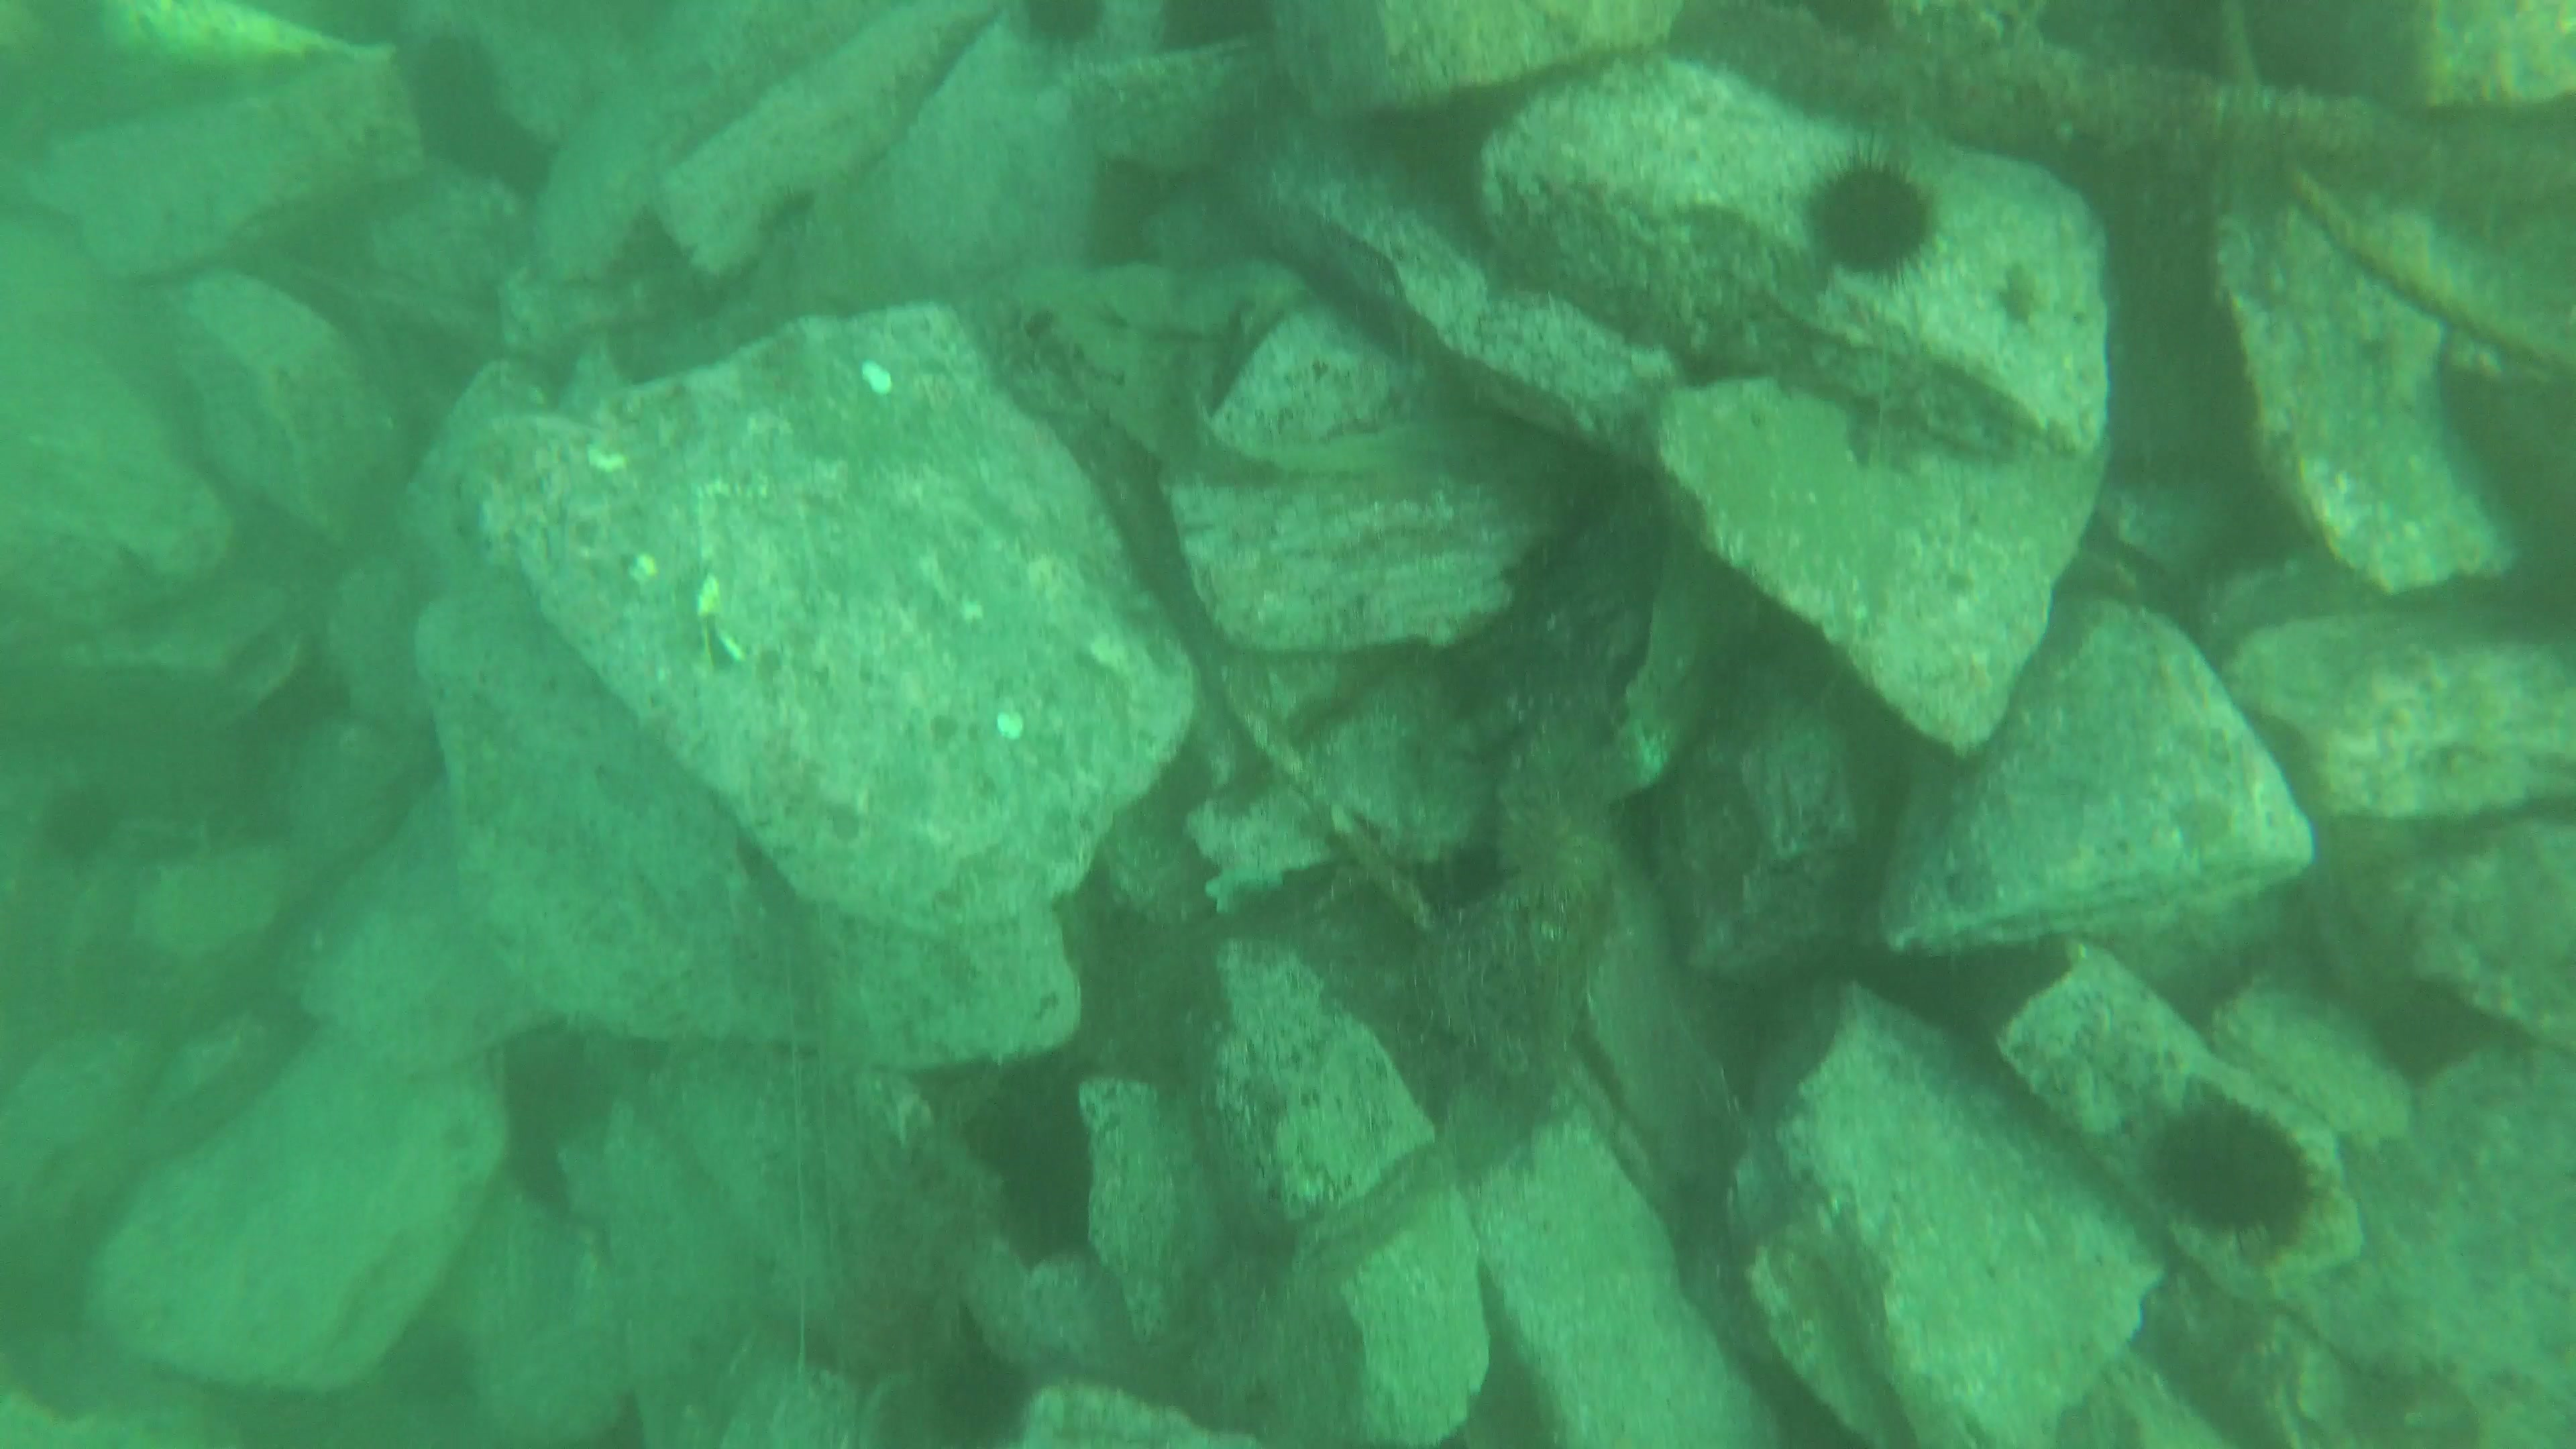echinus: (2132, 1072, 2323, 1276), (1792, 126, 1950, 297)
